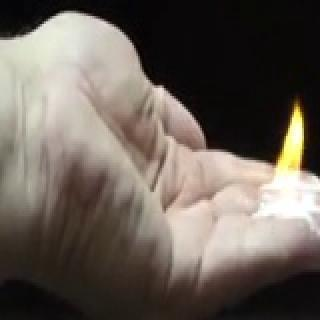fire: (267, 80, 303, 198)
